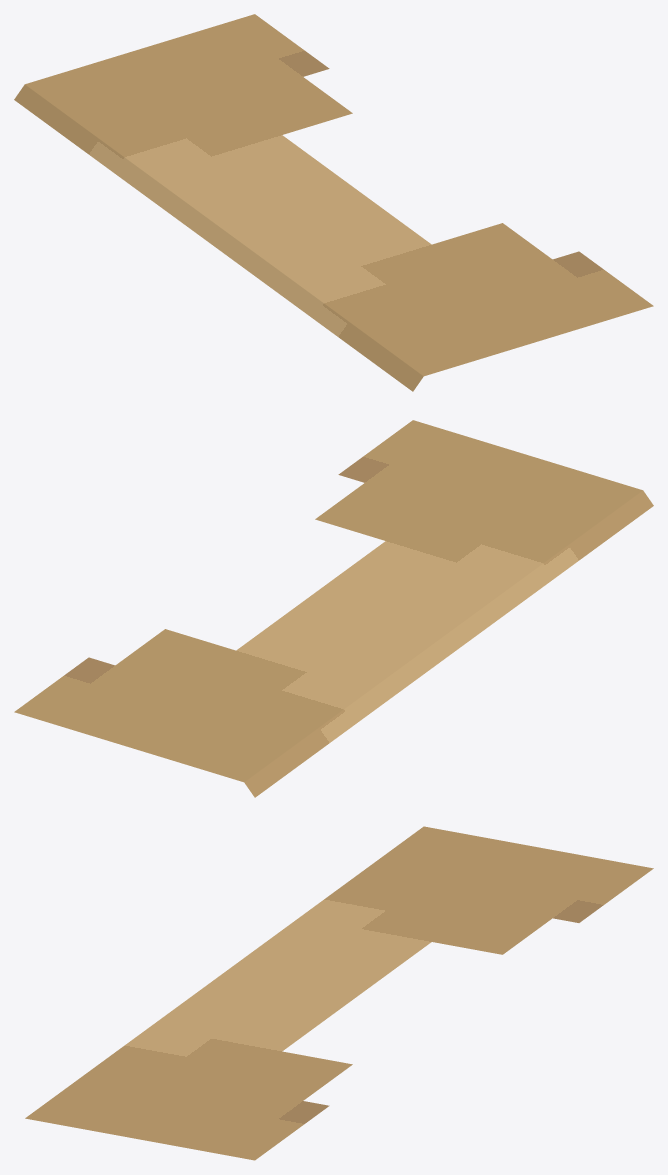
3 views of the same model, one above another, from view 1: azimuth 30°, elevation 25°; view 2: azimuth 150°, elevation 25°; view 3: azimuth 330°, elevation 25° (orthographic).
Bounding box in the file's own units: 0.3486 × 0.0373 × 1.
Materials: 1 (1 with a texture image).
